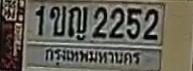1: (35, 5, 44, 34)
2: (142, 8, 158, 38), (108, 7, 124, 37), (92, 6, 106, 37)
5: (126, 7, 141, 38)
A02: (49, 5, 65, 35)
A13: (67, 5, 87, 36)
BKK: (42, 47, 142, 70)
